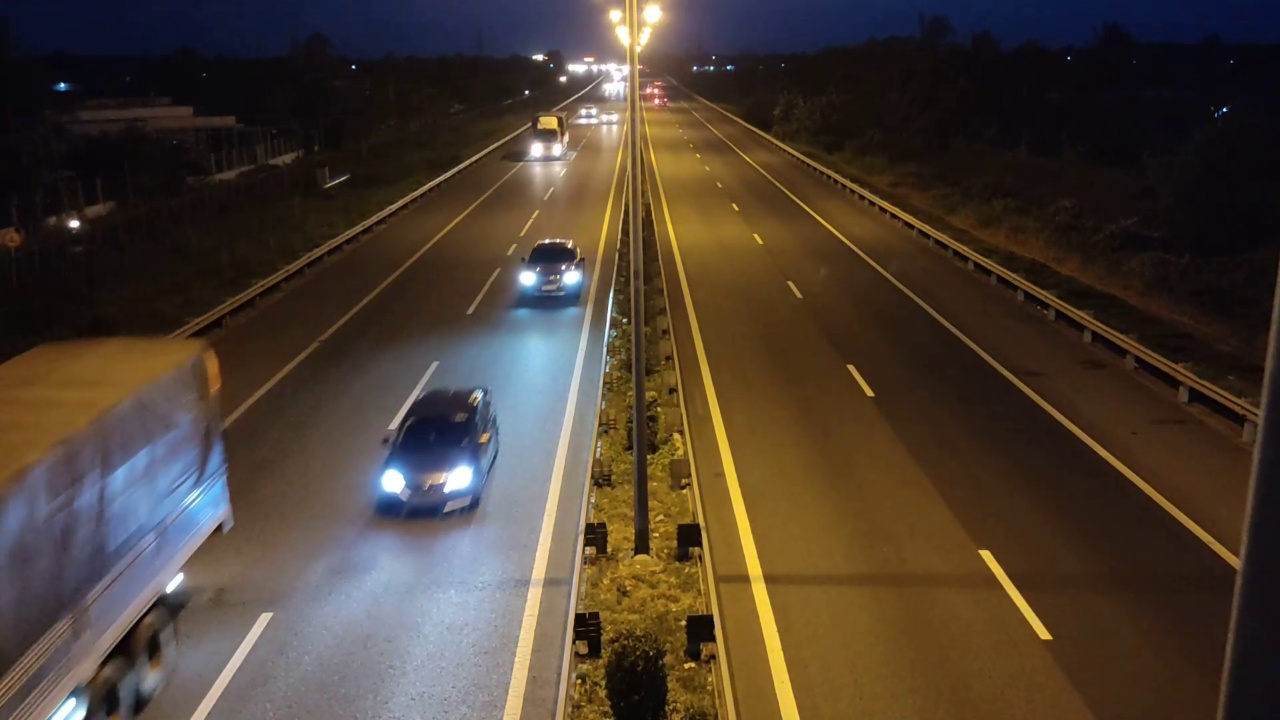car: (375, 386, 501, 519), (514, 238, 587, 306)
